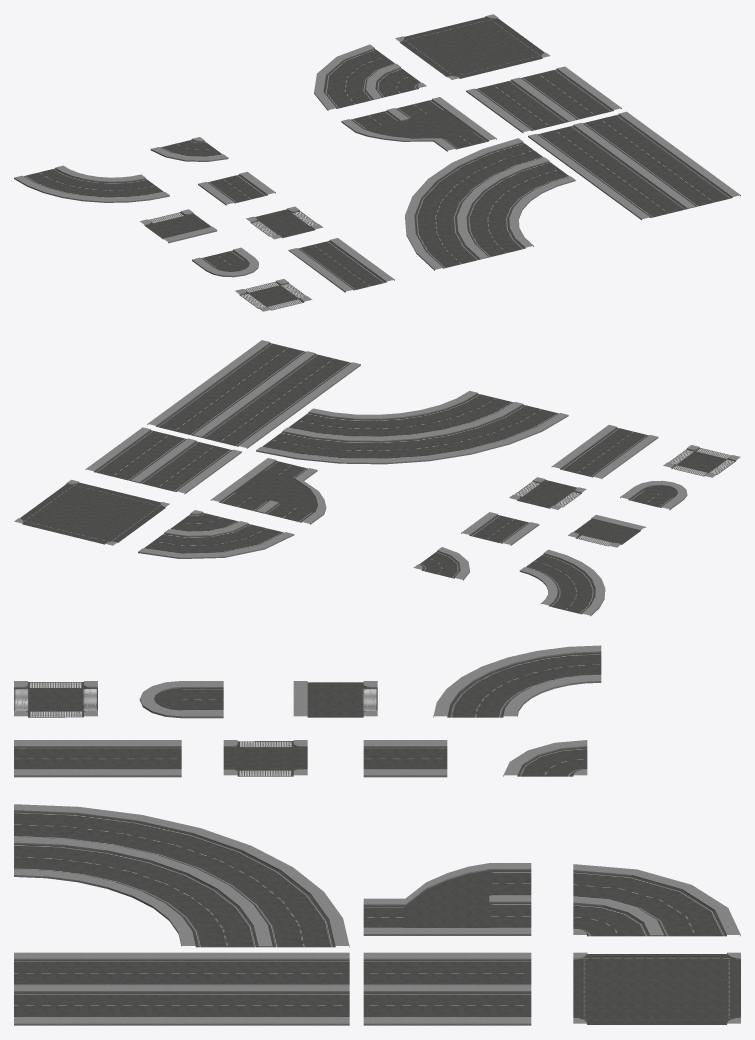
File: simple_modular_roads_system.glb
The picture shows the model from 3 angles, top to bottom: view 1: azimuth 30°, elevation 25°; view 2: azimuth 150°, elevation 25°; view 3: azimuth 270°, elevation 25°; orthographic projection. The views are drawn at different scales.
Visible parts, largest first — view 1: 4Lane-Short.008_13, 4Lane-Short.003_12, 4Lane-Short_8, 4Lane-Intersection_9, 4Lane-Short.002_11, 4Lane-Short.001_10, 2Lane-Short.005_7, 2Lane-Long_3, 2Lane-Short_4, 2Lane-T-Connector_5, 2Lane-Intersection-4Crosswalk_2, 2Lane-2Crosswalk_0 (+2 smaller); view 2: 4Lane-Short.008_13, 4Lane-Short.003_12, 4Lane-Short_8, 4Lane-Intersection_9, 4Lane-Short.002_11, 4Lane-Short.001_10, 2Lane-Short.005_7, 2Lane-Long_3, 2Lane-Short_4, 2Lane-T-Connector_5, 2Lane-2Crosswalk_0, 2Lane-Intersection-4Crosswalk_2 (+2 smaller); view 3: 4Lane-Short.008_13, 4Lane-Short.003_12, 4Lane-Short_8, 4Lane-Intersection_9, 4Lane-Short.002_11, 4Lane-Short.001_10, 2Lane-Short.005_7, 2Lane-Long_3, 2Lane-Short_4, 2Lane-2Crosswalk_0, 2Lane-T-Connector_5, 2Lane-Intersection-4Crosswalk_2 (+2 smaller).
Part boxes in pixels (x1,y1,x2,y2): 4Lane-Short.008_13: (405, 138, 575, 270); 4Lane-Short.003_12: (528, 111, 740, 219); 4Lane-Short_8: (466, 66, 621, 133); 4Lane-Intersection_9: (395, 14, 550, 79); 4Lane-Short.002_11: (341, 97, 496, 151); 4Lane-Short.001_10: (314, 44, 426, 110); 2Lane-Short.005_7: (14, 165, 169, 202); 2Lane-Long_3: (288, 238, 394, 292); 2Lane-Short_4: (198, 171, 275, 205); 2Lane-T-Connector_5: (140, 209, 217, 243); 2Lane-Intersection-4Crosswalk_2: (235, 279, 312, 311); 2Lane-2Crosswalk_0: (246, 206, 323, 239); 4Lane-Short.008_13: (256, 390, 568, 464); 4Lane-Short.003_12: (147, 340, 360, 448); 4Lane-Short_8: (85, 427, 241, 494); 4Lane-Intersection_9: (14, 479, 169, 545); 4Lane-Short.002_11: (210, 458, 326, 524); 4Lane-Short.001_10: (138, 510, 294, 558); 2Lane-Short.005_7: (519, 549, 605, 616); 2Lane-Long_3: (551, 425, 658, 478); 2Lane-Short_4: (461, 512, 539, 545); 2Lane-T-Connector_5: (568, 514, 645, 547); 2Lane-2Crosswalk_0: (509, 477, 586, 509); 2Lane-Intersection-4Crosswalk_2: (663, 445, 740, 477); 4Lane-Short.008_13: (14, 804, 349, 947); 4Lane-Short.003_12: (14, 952, 349, 1025); 4Lane-Short_8: (363, 952, 531, 1025); 4Lane-Intersection_9: (573, 952, 740, 1024); 4Lane-Short.002_11: (363, 863, 531, 935); 4Lane-Short.001_10: (573, 864, 740, 936); 2Lane-Short.005_7: (433, 645, 601, 717); 2Lane-Long_3: (14, 740, 181, 777); 2Lane-Short_4: (363, 740, 447, 777); 2Lane-2Crosswalk_0: (223, 740, 307, 776); 2Lane-T-Connector_5: (293, 681, 377, 717); 2Lane-Intersection-4Crosswalk_2: (14, 681, 97, 717).
Bounding box in the file's own units: 128 × 0.3136 × 104.
1 material, 1 textured.
